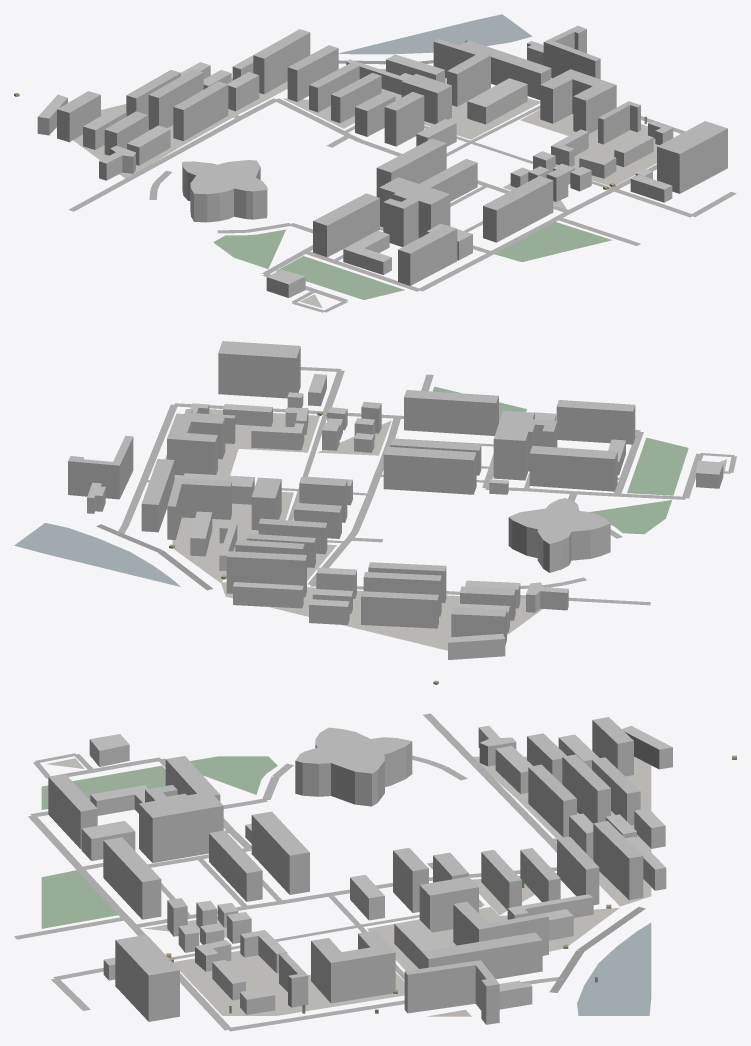
3 views of the same model, one above another, from view 1: azimuth 30°, elevation 25°; view 2: azimuth 150°, elevation 25°; view 3: azimuth 270°, elevation 25° (orthographic). The views are drawn at different scales.
Size of the model in its own units: 613 by 43.35 by 593.
